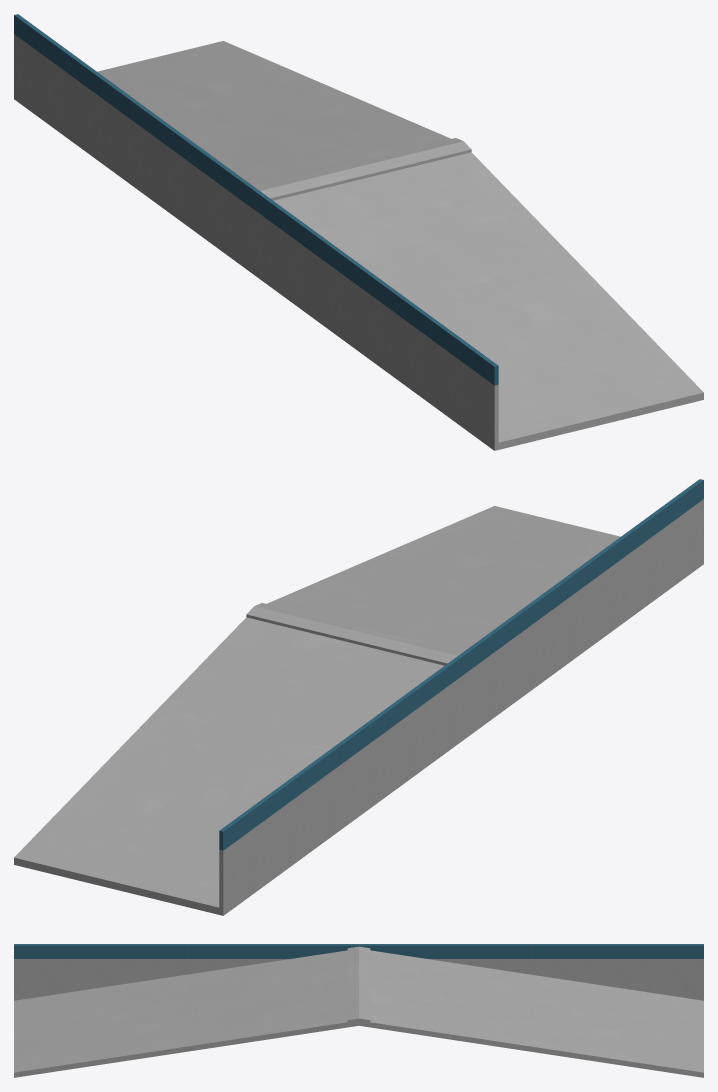
The model's file is SM06_Building_RoofPanel_Gable_01_End_01.fbx.
3 renders of one model, top to bottom at view 1: azimuth 30°, elevation 25°; view 2: azimuth 150°, elevation 25°; view 3: azimuth 270°, elevation 25°, orthographic. The views are drawn at different scales.
Parts seen in each view (by area): view 1: SM06_Building_RoofPanel_Gable_01_End_01; view 2: SM06_Building_RoofPanel_Gable_01_End_01; view 3: SM06_Building_RoofPanel_Gable_01_End_01.
Part boxes in pixels (box(x1,y1,x2,y2)): SM06_Building_RoofPanel_Gable_01_End_01: box(14, 14, 703, 450); SM06_Building_RoofPanel_Gable_01_End_01: box(14, 479, 703, 915); SM06_Building_RoofPanel_Gable_01_End_01: box(14, 944, 703, 1077).
Bounding box in the file's own units: 15.1 × 5.8 × 60.
